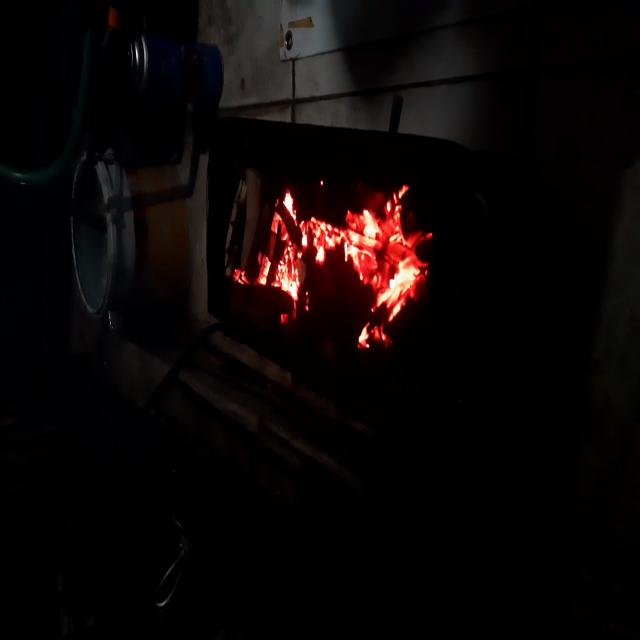Fire: (251, 184, 418, 356)
